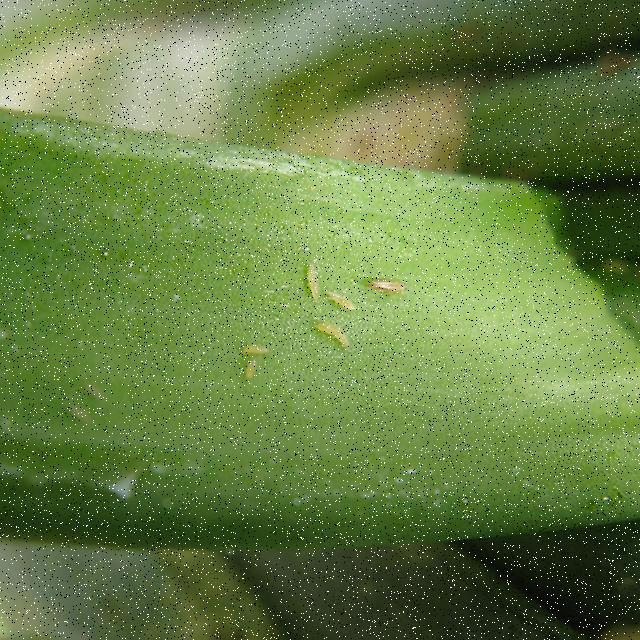Thrips: (362, 259, 410, 303), (317, 286, 362, 331), (299, 249, 330, 309), (311, 317, 352, 360), (239, 335, 275, 370), (239, 362, 269, 390)
